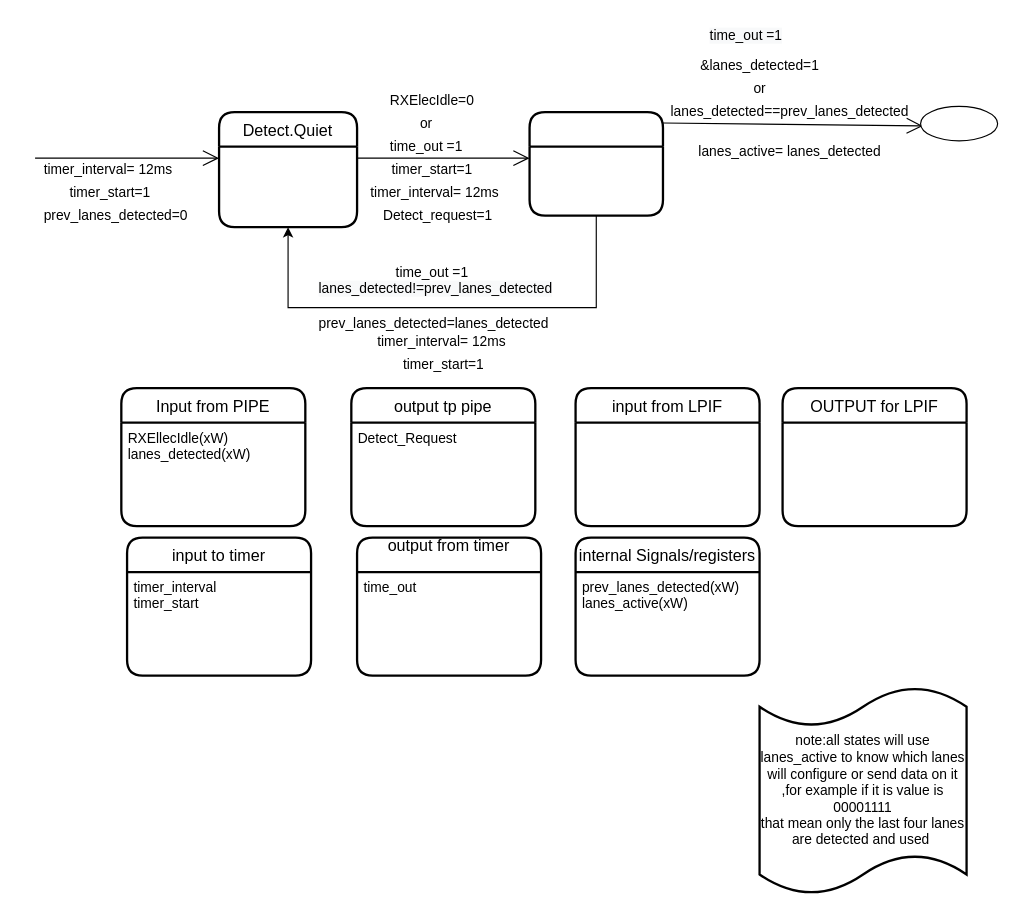
The diagram is 1018 pixels wide and 914 high, and some of its shapes have lost their labels. The shapes that lost their labels are listed below. From the top down, each one's centre as x and y in pixels, then its label:
At [958,123]: "polling".
At [596,163]: "Detect.active".
